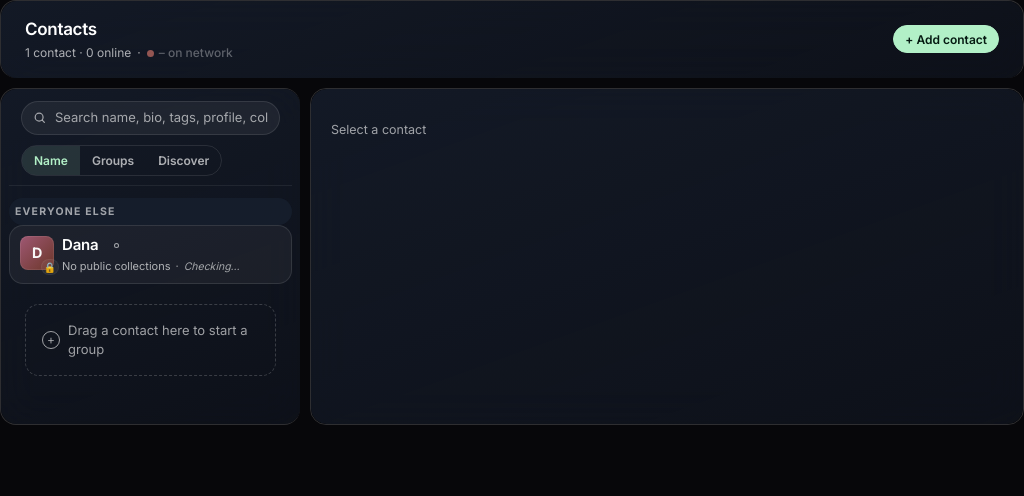
Scenario: QURATOR-351 state d — size on the row, Looking-for on the detail › a published looking_for renders the Looking-for line FIRST in the pane
# QURATOR-368b: the chevron is gone — a row click selects into the pane (held 250 ms).
Click the option with class "contact-card" at [37, 253], box x1=9 y1=226 x2=292 y2=284
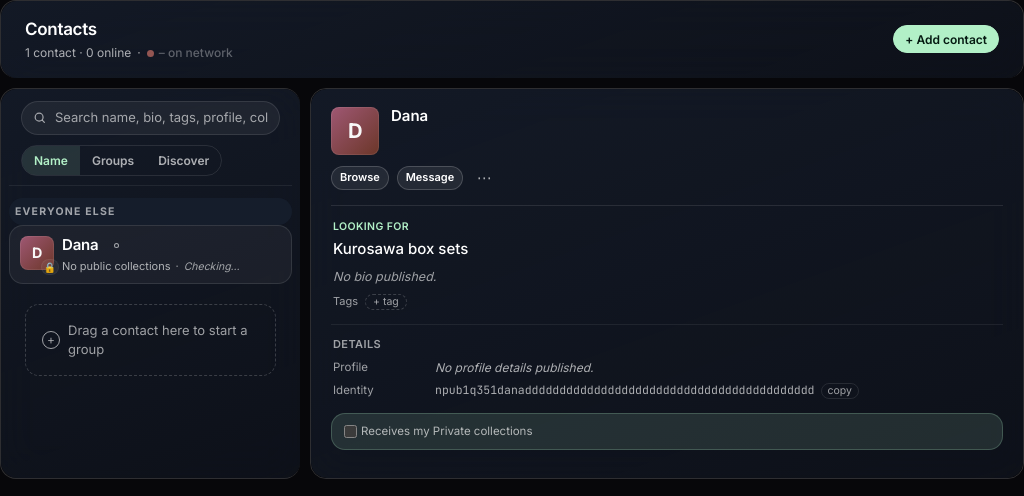
Expected: the number of elements with class "looking-for" is 1, x1=333 y1=220 x2=468 y2=258
Expected: the text with class "lf-eyebrow" reads "Looking for", x1=333 y1=220 x2=409 y2=233
Expected: the element with class "looking-for" reads "Looking for Kurosawa box sets", x1=333 y1=220 x2=468 y2=258
